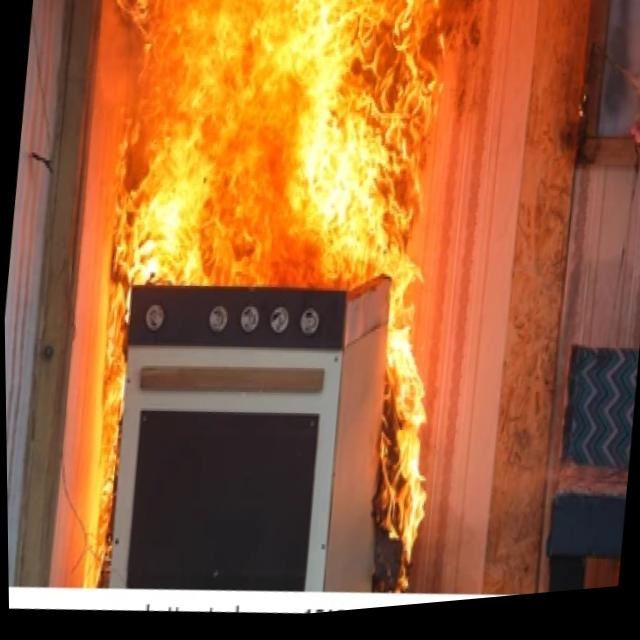Fire: (86, 0, 470, 318), (370, 306, 467, 544)
